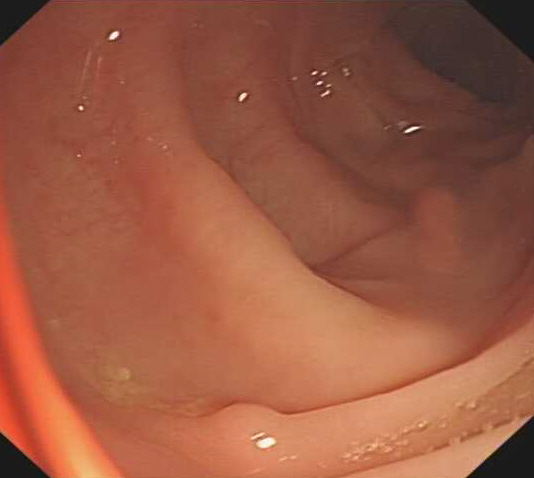others: (206, 400, 286, 432)
